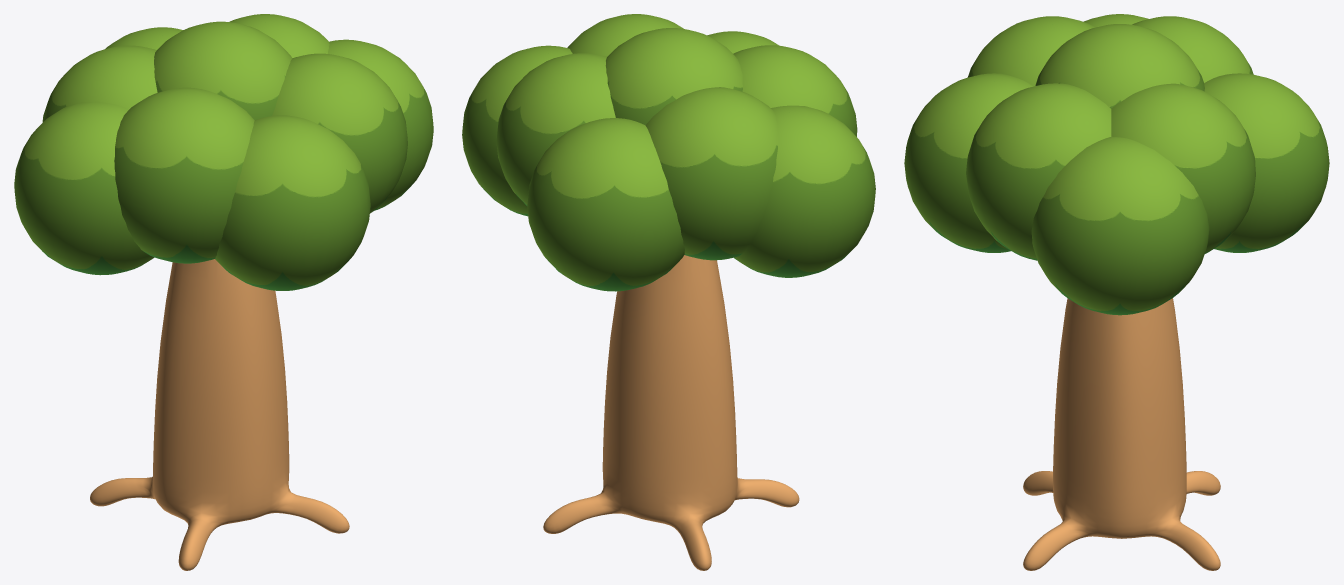
File: Pohon (1).fbx
The picture shows the model from 3 angles, left to right: view 1: azimuth 30°, elevation 25°; view 2: azimuth 150°, elevation 25°; view 3: azimuth 270°, elevation 25°; orthographic projection. The views are drawn at different scales.
Visible parts, largest first — view 1: Pohon, Daun.008, Daun.001, Daun.005, Daun.004, Daun, Daun.002, Daun.006, Daun.003, Daun.007; view 2: Pohon, Daun.007, Daun.002, Daun.005, Daun.003, Daun, Daun.006, Daun.001, Daun.004, Daun.008; view 3: Pohon, Daun.006, Daun.004, Daun.007, Daun.003, Daun.008, Daun, Daun.001, Daun.002, Daun.005.
Boxes of the visible parts, bbox=[...] form: Pohon: bbox=[90, 259, 349, 570]; Daun.008: bbox=[215, 115, 370, 290]; Daun.001: bbox=[114, 87, 254, 263]; Daun.005: bbox=[14, 101, 154, 275]; Daun.004: bbox=[272, 53, 407, 213]; Daun: bbox=[154, 21, 292, 119]; Daun.002: bbox=[42, 45, 157, 122]; Daun.006: bbox=[328, 39, 433, 210]; Daun.003: bbox=[229, 14, 329, 57]; Daun.007: bbox=[105, 27, 183, 49]; Pohon: bbox=[543, 255, 799, 570]; Daun.007: bbox=[527, 118, 684, 291]; Daun.002: bbox=[645, 87, 778, 260]; Daun.005: bbox=[734, 105, 875, 277]; Daun.003: bbox=[496, 53, 615, 205]; Daun: bbox=[605, 28, 742, 125]; Daun.006: bbox=[462, 45, 572, 216]; Daun.001: bbox=[733, 45, 857, 136]; Daun.004: bbox=[567, 14, 683, 56]; Daun.008: bbox=[707, 31, 778, 53]; Pohon: bbox=[1023, 298, 1220, 570]; Daun.006: bbox=[1031, 136, 1209, 315]; Daun.004: bbox=[966, 83, 1111, 260]; Daun.007: bbox=[1204, 73, 1329, 252]; Daun.003: bbox=[1111, 83, 1255, 253]; Daun.008: bbox=[904, 73, 1032, 252]; Daun: bbox=[1035, 24, 1204, 108]; Daun.001: bbox=[967, 16, 1094, 86]; Daun.002: bbox=[1132, 16, 1253, 82]; Daun.005: bbox=[1083, 14, 1148, 27].
Bounding box in the file's own units: 2135 × 2520 × 1943.
6 materials, 5 textured.
